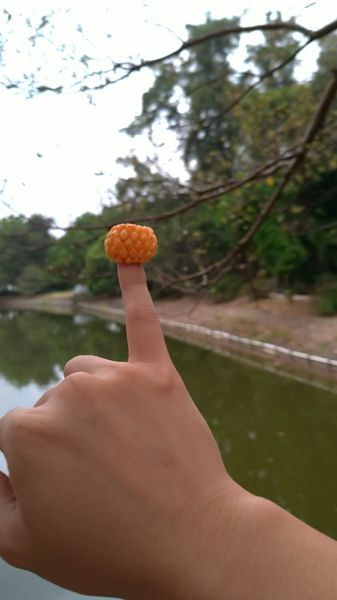eggs: (102, 222, 158, 266)
